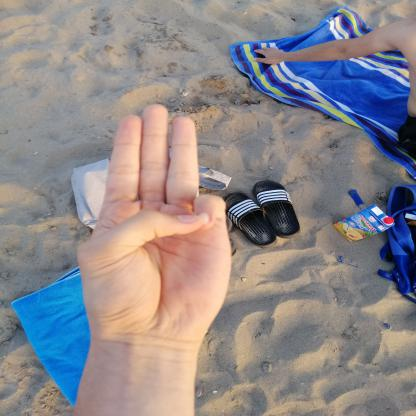THA: (64, 93, 246, 355)
